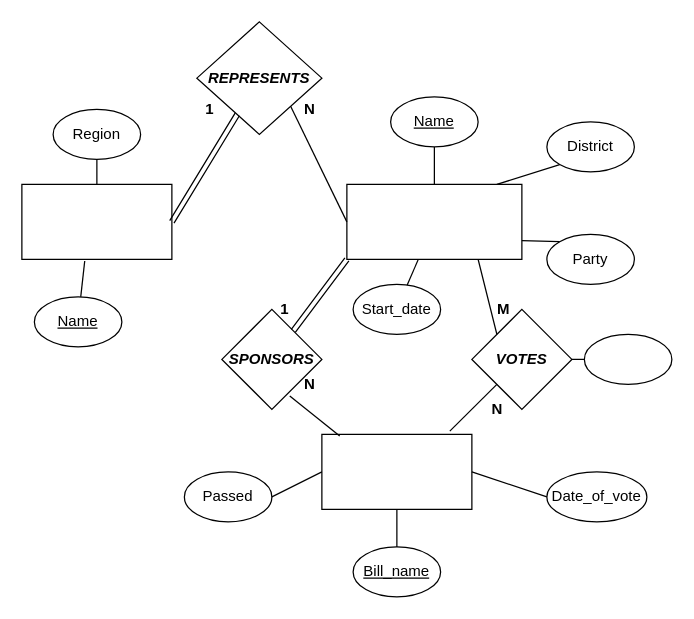
Some shapes in this 694 by 619 pixel diagram are drawn without their labels. The centre of each missing label's shape, as x and y in pixels:
BILL: the point at 396,471
CONGRESS_PERSON: the point at 434,221
Decision: the point at 627,358
STATE: the point at 96,221
